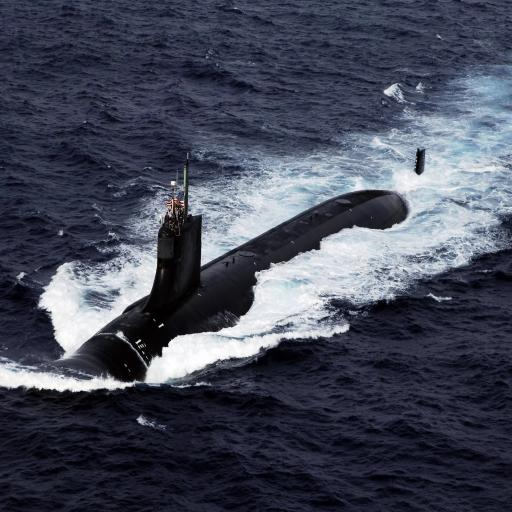submarine: (38, 136, 434, 403)
